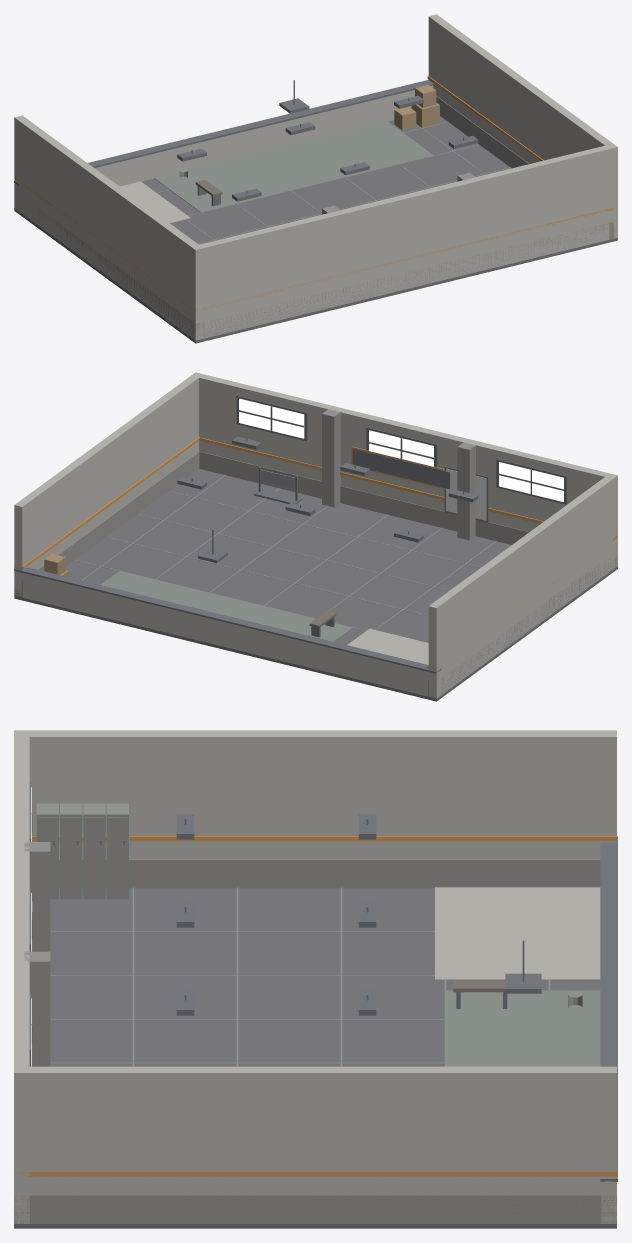
File: hypertrophy_gym.glb
The picture shows the model from 3 angles, top to bottom: view 1: azimuth 30°, elevation 25°; view 2: azimuth 150°, elevation 25°; view 3: azimuth 270°, elevation 25°; orthographic projection. The views are drawn at different scales.
Parts seen in each view (by area): view 1: walls, floor, lights, props; view 2: walls, floor, lights, props; view 3: walls, floor, props, lights.
Part boxes in pixels (x1,y1,x2,y2): walls: [14, 14, 617, 340]; floor: [14, 116, 617, 343]; lights: [177, 80, 478, 201]; props: [179, 85, 439, 206]; walls: [14, 372, 617, 698]; floor: [14, 469, 617, 701]; lights: [177, 436, 478, 563]; props: [44, 467, 336, 637]; walls: [14, 730, 617, 1223]; floor: [14, 887, 616, 1228]; props: [36, 803, 582, 1008]; lights: [176, 814, 541, 1015].
Size of the model in its own units: 15.6 by 3.3 by 11.62.
